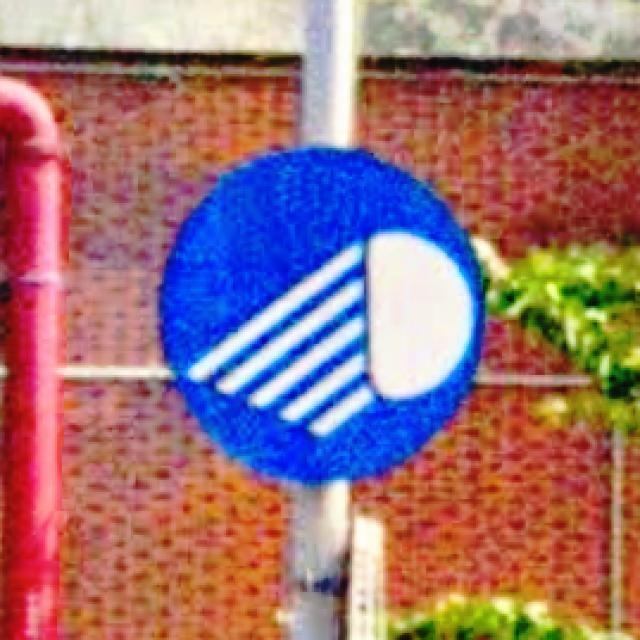lightson: (165, 148, 482, 482)
